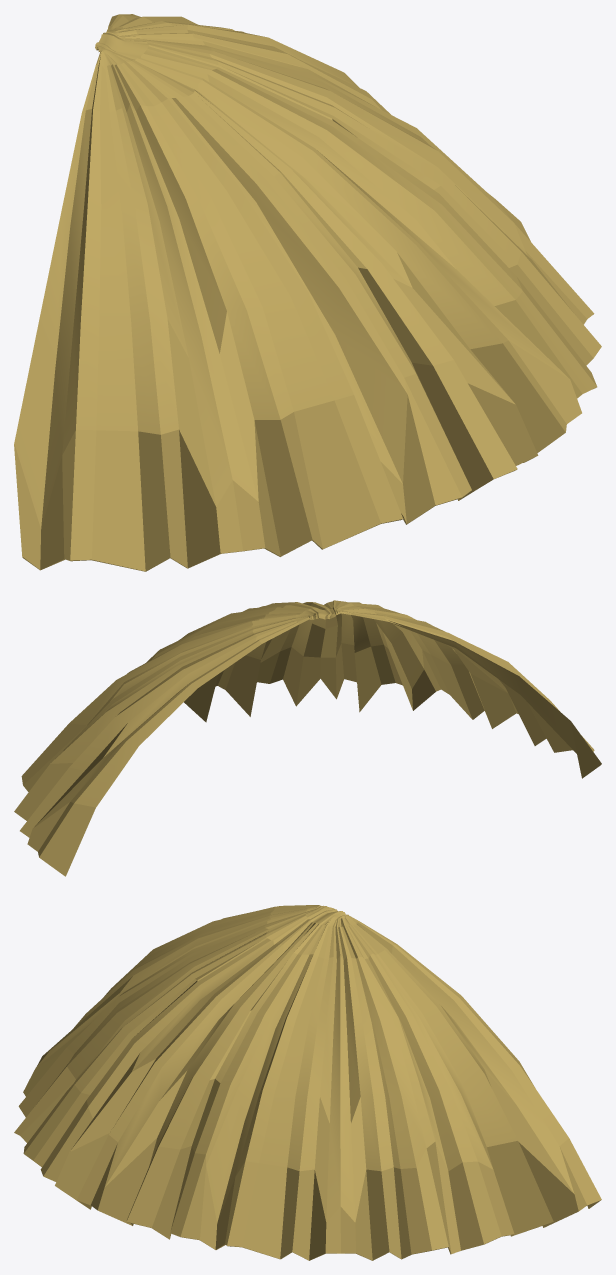
File: SM_Env_Roof_08.fbx
3 renders of one model, top to bottom at view 1: azimuth 30°, elevation 25°; view 2: azimuth 150°, elevation 25°; view 3: azimuth 270°, elevation 25°, orthographic. The views are drawn at different scales.
Parts seen in each view (by area): view 1: SM_Env_Roof_08; view 2: SM_Env_Roof_08; view 3: SM_Env_Roof_08.
Part boxes in pixels (box(x1,y1,x2,y2)): SM_Env_Roof_08: box(14, 14, 601, 571); SM_Env_Roof_08: box(14, 600, 601, 876); SM_Env_Roof_08: box(14, 905, 601, 1260).
Size of the model in its own units: 157 by 75.4 by 176.
1 material, 1 textured.
